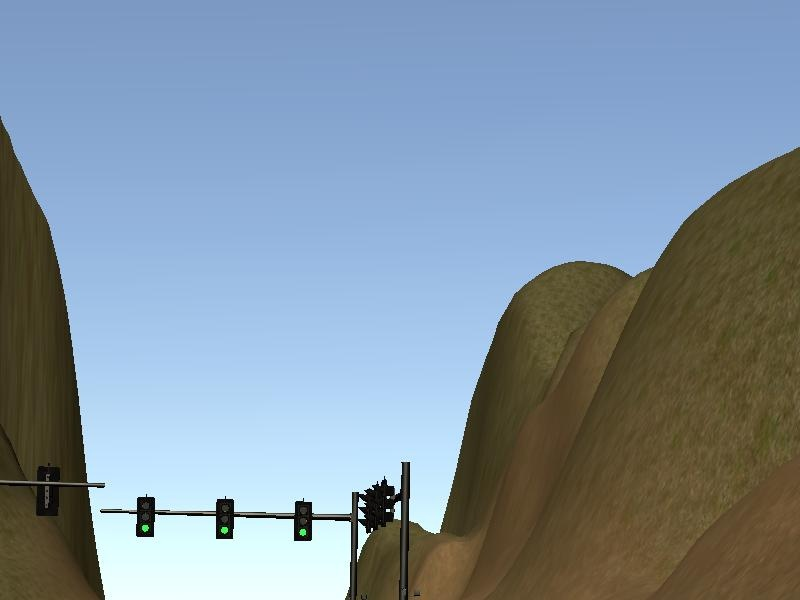green: (292, 499, 313, 541), (213, 498, 235, 536), (136, 496, 155, 539)
